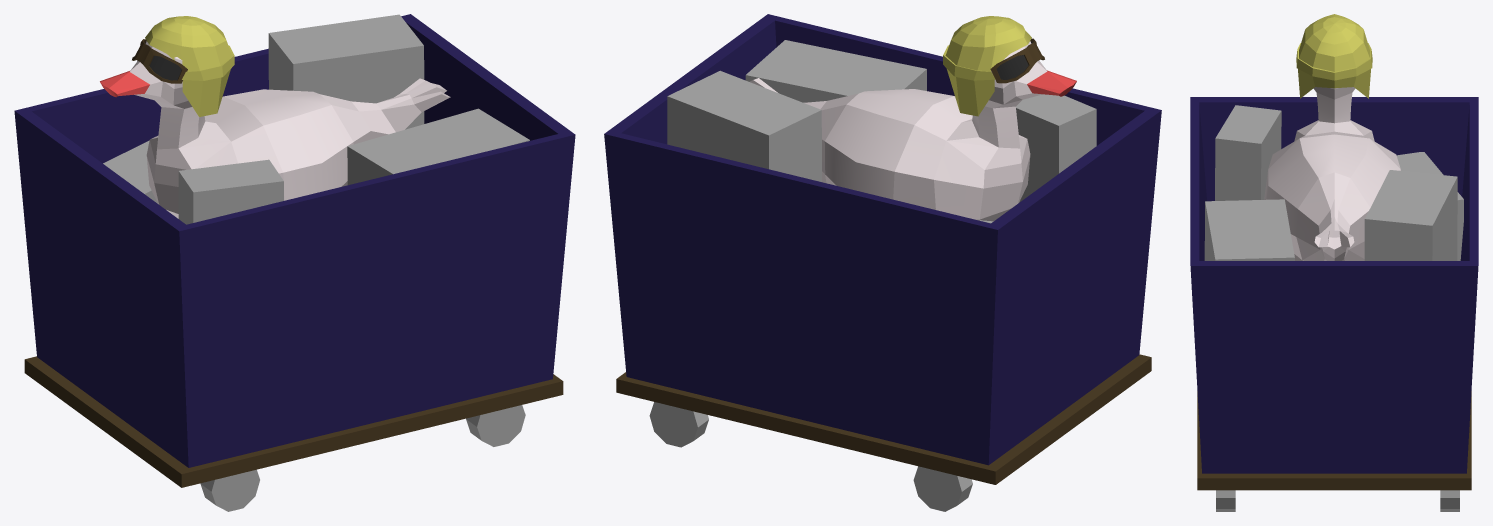
Rendered from DUCK IN KART W MATS.fbx.
3 views of the same model, side by side, from view 1: azimuth 30°, elevation 25°; view 2: azimuth 150°, elevation 25°; view 3: azimuth 270°, elevation 25° (orthographic). The views are drawn at different scales.
Parts seen in each view (by area): view 1: pCube6, polySurface8, pCube7, pCube9, pCube8, polySurface7, pCube11, pCylinder1, pCylinder2, pCube10, polySurface6; view 2: pCube6, polySurface8, pCube9, pCube7, pCube8, pCube11, polySurface7, pCylinder4, pCylinder3, polySurface6; view 3: pCube6, polySurface8, pCube9, pCube7, pCube11, pCube8, polySurface7, pCube10, pCylinder2, pCylinder3.
Boxes of the visible parts, x1,y1,x2,y2 form: pCube6: (14, 14, 575, 467); polySurface8: (100, 41, 450, 218); pCube7: (24, 356, 563, 487); pCube9: (268, 14, 424, 129); pCube8: (347, 108, 529, 185); polySurface7: (145, 16, 234, 116); pCube11: (178, 159, 283, 224); pCylinder1: (200, 469, 259, 511); pCylinder2: (466, 405, 525, 446); pCube10: (103, 140, 157, 203); polySurface6: (132, 39, 187, 83); pCube6: (604, 14, 1161, 465); polySurface8: (749, 41, 1076, 221); pCube9: (667, 70, 821, 181); pCube7: (616, 354, 1151, 484); pCube8: (745, 40, 926, 102); pCube11: (1016, 94, 1096, 202); polySurface7: (943, 16, 1031, 116); pCylinder4: (913, 466, 972, 511); pCylinder3: (649, 402, 708, 447); polySurface6: (990, 38, 1044, 83); pCube6: (1190, 97, 1478, 473); polySurface8: (1264, 87, 1400, 260); pCube9: (1364, 170, 1457, 260); pCube7: (1197, 391, 1471, 490); pCube11: (1215, 105, 1281, 200); pCube8: (1204, 199, 1294, 260); polySurface7: (1296, 14, 1372, 98); pCube10: (1396, 152, 1463, 260); pCylinder2: (1216, 490, 1235, 511); pCylinder3: (1440, 490, 1459, 511).
Size of the model in its own units: 5.01 by 5.27 by 3.61.
